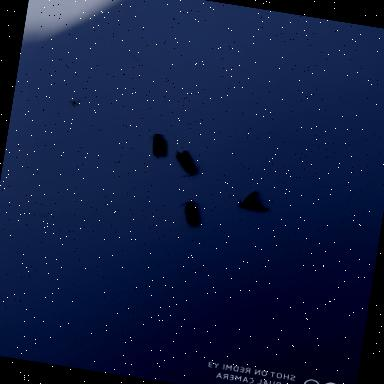pbw: (170, 146, 204, 180), (234, 187, 273, 216), (175, 195, 207, 230), (142, 132, 172, 160)
